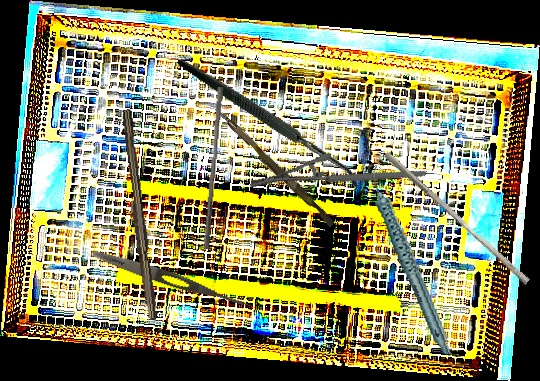Dressing Forceps: (90, 246, 255, 313)
Handpiece: (369, 157, 451, 362)
Hook Surgical: (177, 2, 379, 234)
Needle Holder: (249, 125, 427, 234)
Pusher: (378, 151, 535, 286), (209, 106, 339, 228), (203, 86, 225, 250)
Scalpel Handle: (115, 108, 161, 322)
